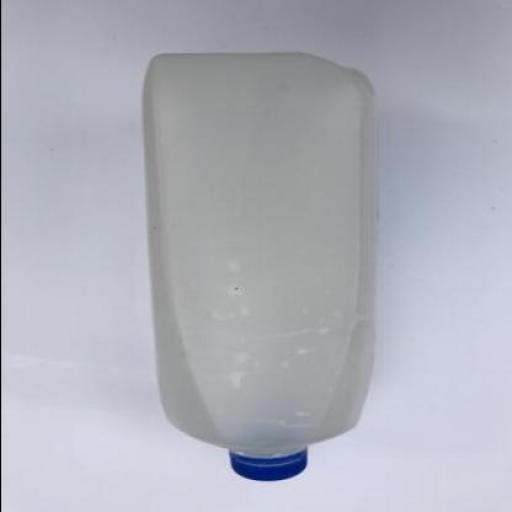plastic: (142, 53, 376, 481), (228, 451, 308, 482)
